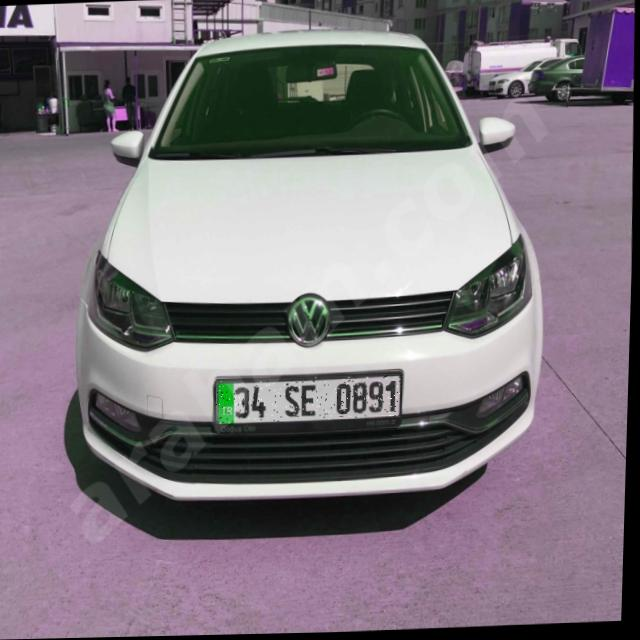license_plate: (217, 375, 404, 425)
